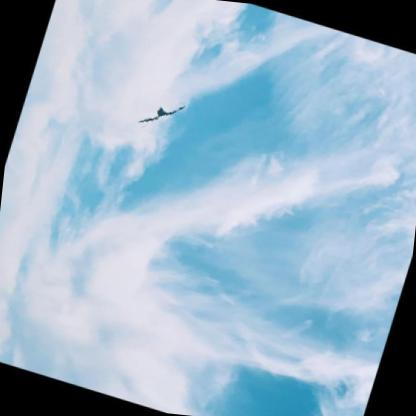bird: (134, 87, 187, 141)
